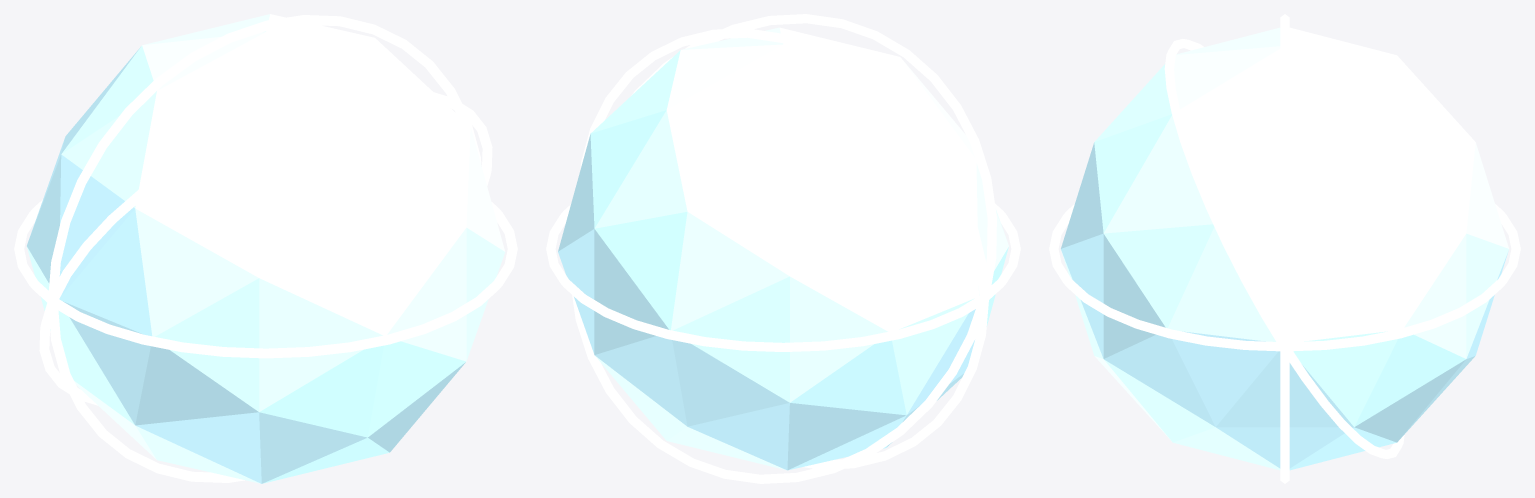
The model's file is shield.glb.
3 views of the same model, side by side, from view 1: azimuth 30°, elevation 25°; view 2: azimuth 150°, elevation 25°; view 3: azimuth 270°, elevation 25° (orthographic). The views are drawn at different scales.
Visible parts, largest first — view 1: ShieldBubble, ShieldRingC, ShieldRingA, ShieldRingB; view 2: ShieldBubble, ShieldRingB, ShieldRingC, ShieldRingA; view 3: ShieldBubble, ShieldRingA, ShieldRingB, ShieldRingC.
Boxes of the visible parts, bbox=[...] form: ShieldBubble: bbox=[26, 14, 505, 483]; ShieldRingC: bbox=[48, 15, 481, 482]; ShieldRingA: bbox=[14, 199, 517, 358]; ShieldRingB: bbox=[39, 86, 492, 405]; ShieldBubble: bbox=[558, 27, 1008, 470]; ShieldRingB: bbox=[572, 14, 996, 483]; ShieldRingC: bbox=[580, 28, 988, 468]; ShieldRingA: bbox=[546, 203, 1020, 351]; ShieldBubble: bbox=[1061, 27, 1508, 470]; ShieldRingA: bbox=[1049, 204, 1520, 351]; ShieldRingB: bbox=[1164, 39, 1404, 458]; ShieldRingC: bbox=[1280, 14, 1289, 483].
Bounding box in the file's own units: 2.1 × 2.1 × 2.1.
